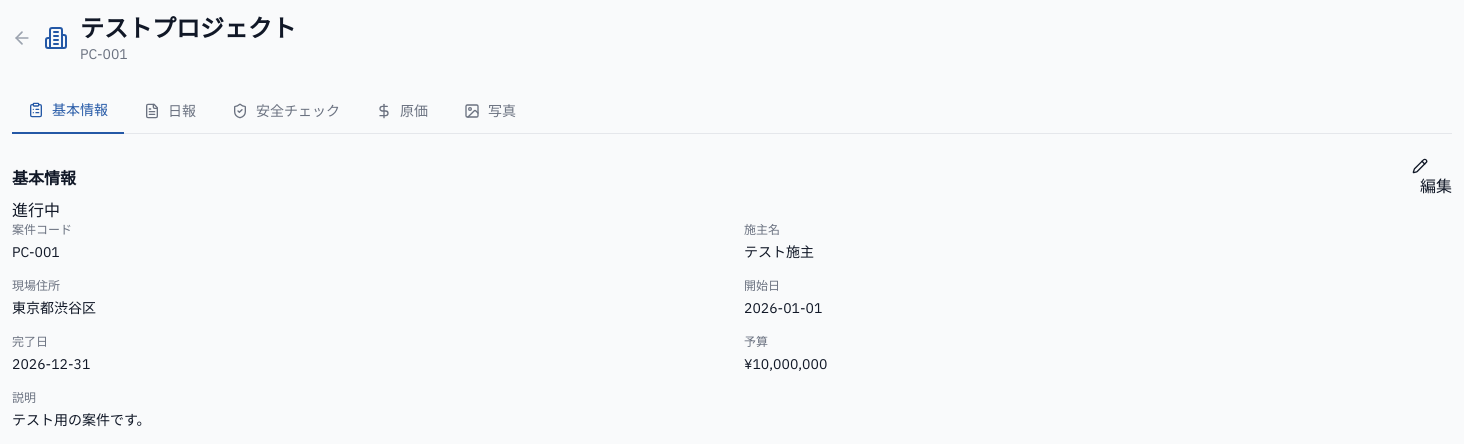
Scenario: ProjectDetailPage › 日報タブに切り替えるとデータなし状態が表示される
Expected: the heading "テストプロジェクト" is shown, [80,12,296,44]
Step 1. Click the button "日報" → (170, 111), box [128,88,212,134]
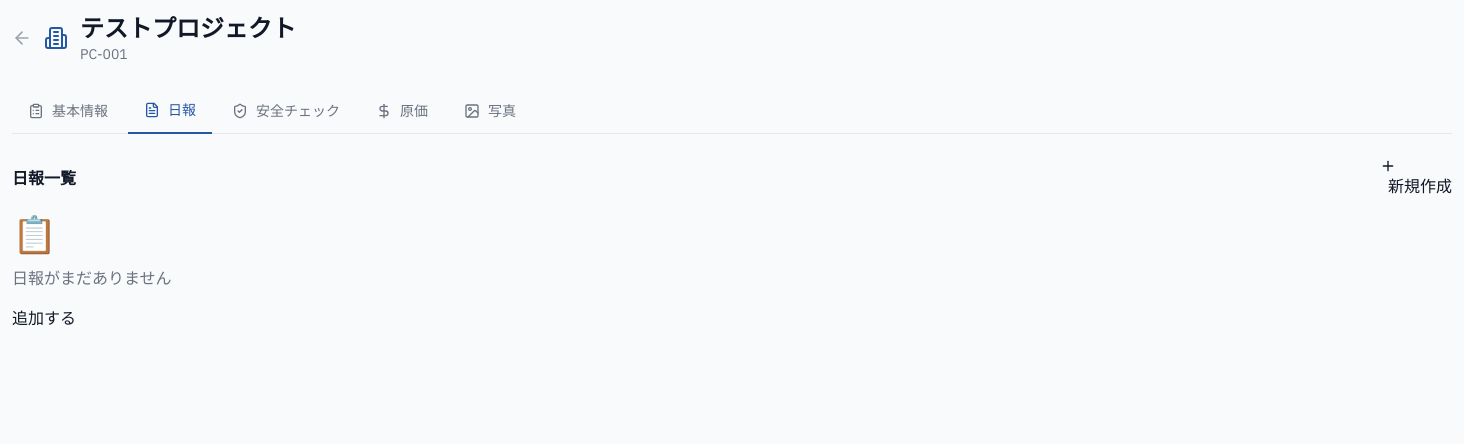
Result: the text "日報がまだありません" is shown at [12,268,172,288]
